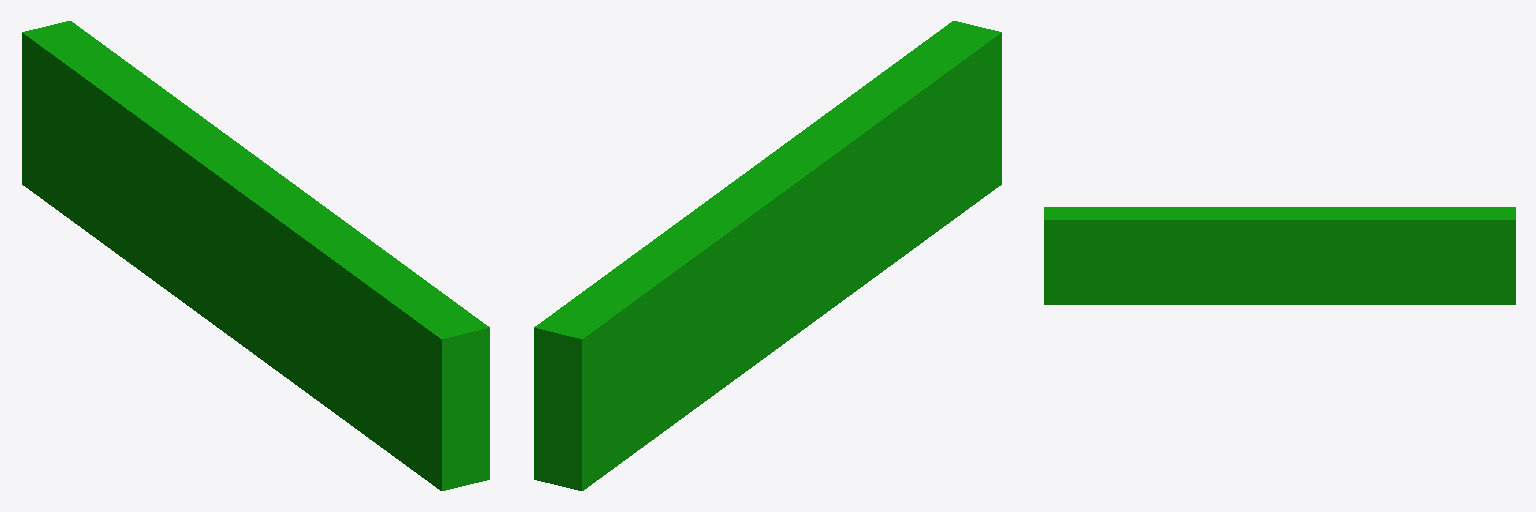
robot.urdf — knife:
<robot name="knife">
    <link name="base_link">
        <contact>
            <lateral_friction value="1" />
            <spinning_friction value=".001" />
            <contact_cfm value="0.0" />
            <contact_erp value="1.0" />
        </contact>
        <inertial>
            <origin rpy="0 0 0" xyz="0 0 0" />
            <mass value="0.4" />
            <inertia ixx="1" ixy="0" ixz="0" iyy="1" iyz="0" izz="1" />
        </inertial>
        <visual>
            <origin rpy="0 0 0" xyz="0.0 0.0 0.0" />
            <geometry>
                <box size="0.05 0.75 0.15" />
            </geometry>
            <material name="blockmat">
                <color rgba="0.1 0.7 0.1 1" />
            </material>
        </visual>
        <collision>
            <origin rpy="0 0 0" xyz="0.0 0.0 0.0" />
            <geometry>
                <box size="0.05 0.75 0.15" />
            </geometry>
        </collision>
    </link>
</robot>

--- What the picture shows (computed from the rendered views, not written in the file) ---
Views: 3 orthographic renders of the robot side by side, from view 1: azimuth 30°, elevation 25°; view 2: azimuth 150°, elevation 25°; view 3: azimuth 270°, elevation 25°.
Robot: knife — 1 links, 0 joints (none); root link base_link; default pose: every joint at zero.
Visible links, largest first — view 1: base_link; view 2: base_link; view 3: base_link.
Boxes of the visible links, x1,y1,x2,y2 form: base_link: (22, 21, 489, 490); base_link: (534, 21, 1001, 490); base_link: (1044, 207, 1515, 304).
Size in the robot's own frame: 0.05 by 0.75 by 0.15 metres.
Geometry: primitives only (box / cylinder / sphere), no mesh files.